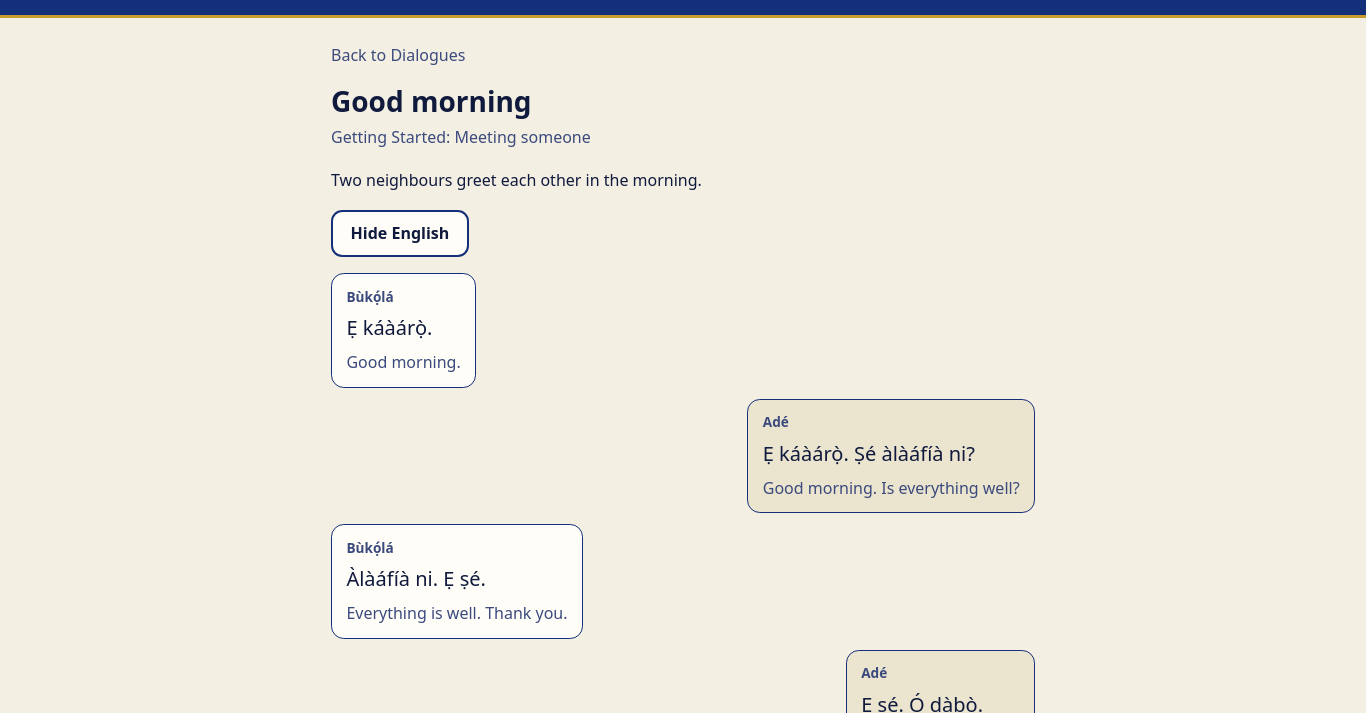
it: Dialogue page › hides and shows the English, and the questions still work with it hidden
Click the button "Hide English" at (400, 234), box [331, 210, 469, 257]
(page scrolled)
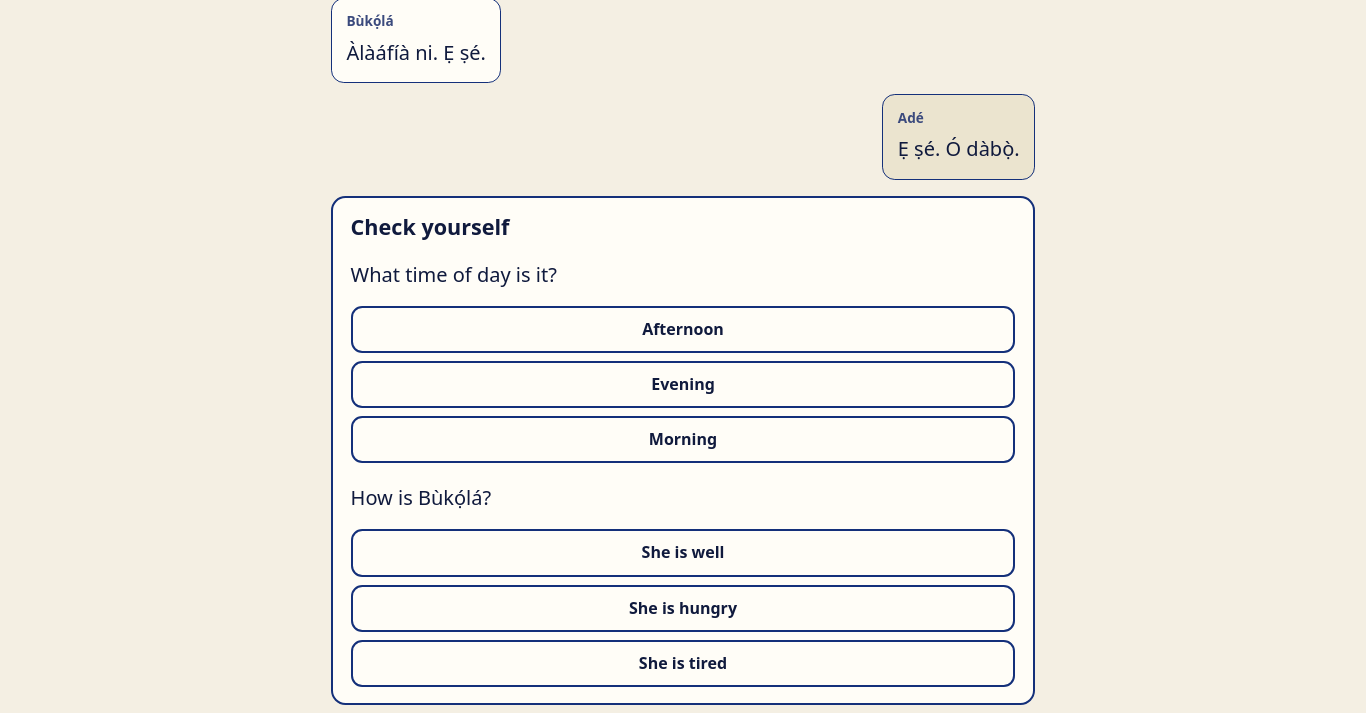
Expected: no elements with test id "dialogue-english" are shown
Click the button with test id "choice" showing "Afternoon" at (683, 329), box [351, 306, 1015, 353]
(page scrolled)
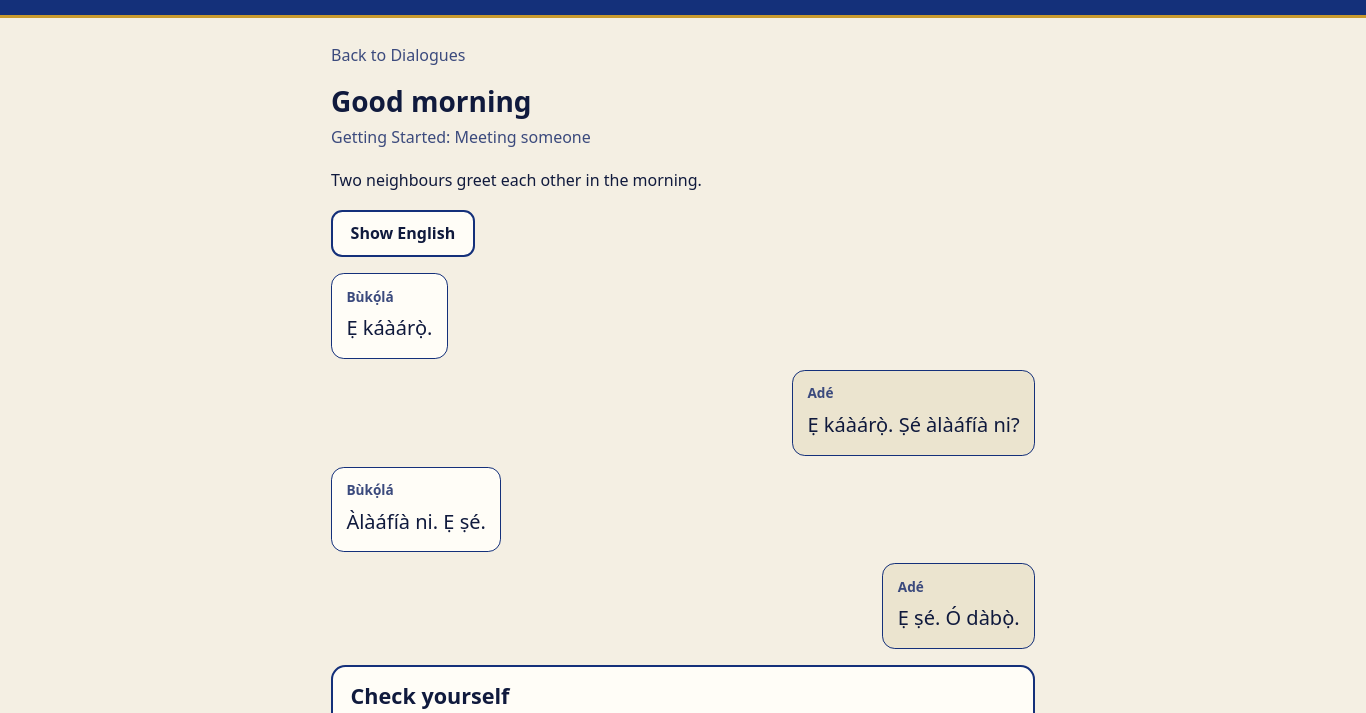
Click the button "Show English" at (403, 234), box [331, 210, 475, 257]
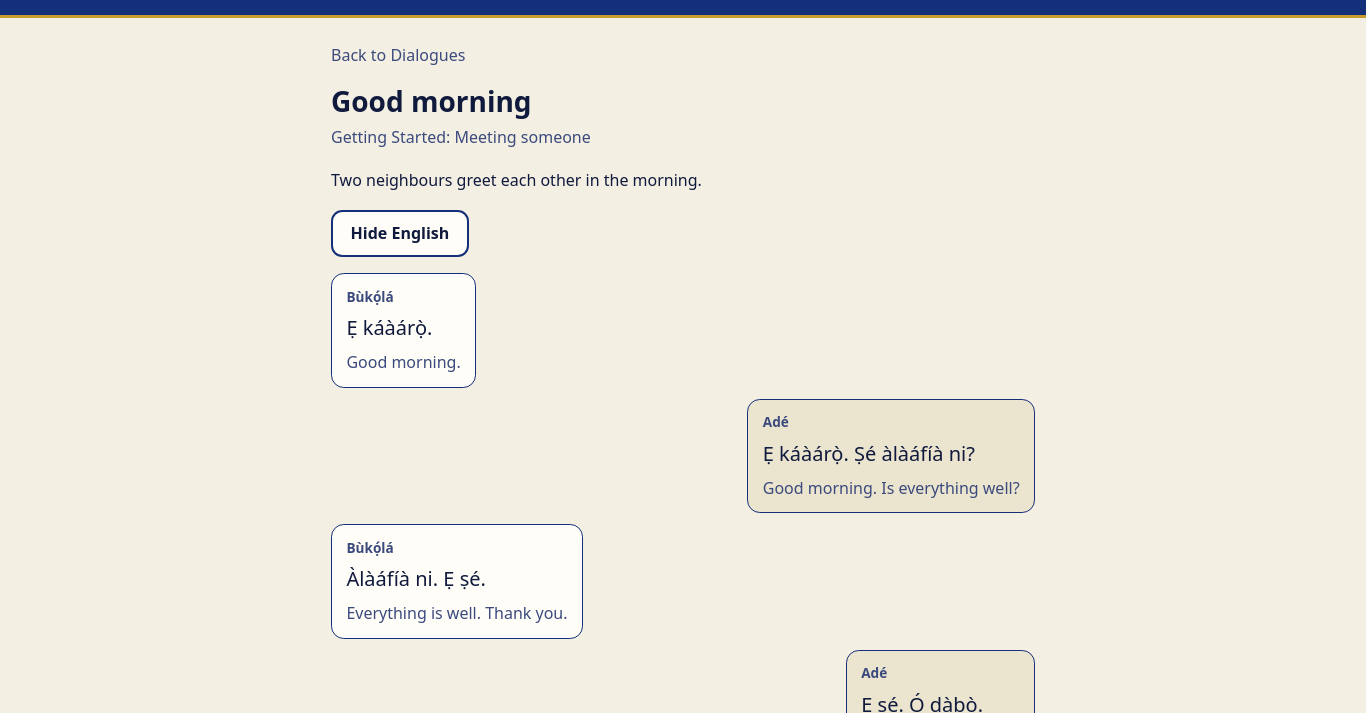
Expected: the number of elements with test id "dialogue-english" is 4
